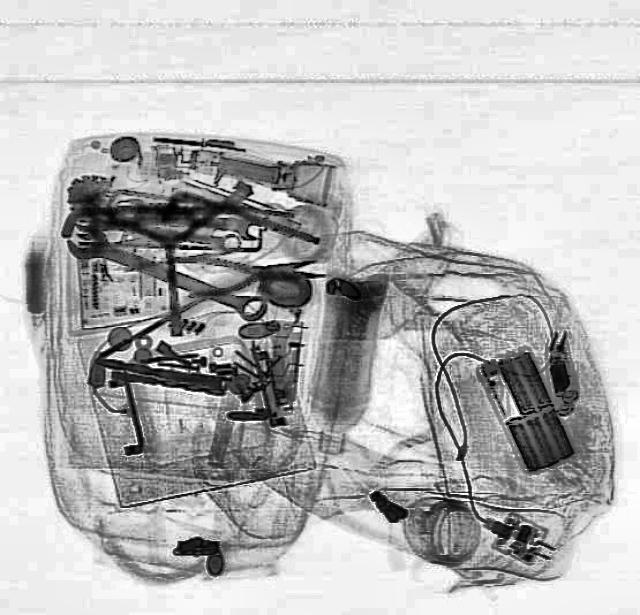Pliers: (122, 234, 328, 324)
Wrench: (60, 218, 274, 328), (112, 188, 264, 242)
